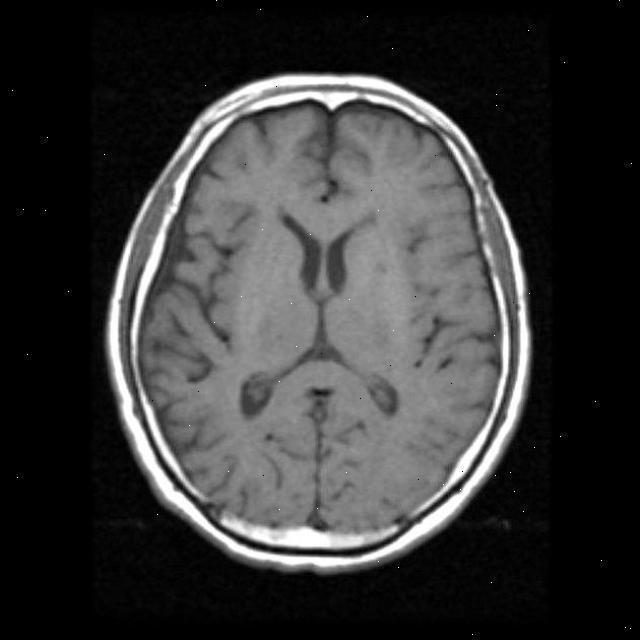No_Tumor: (108, 74, 531, 571)
